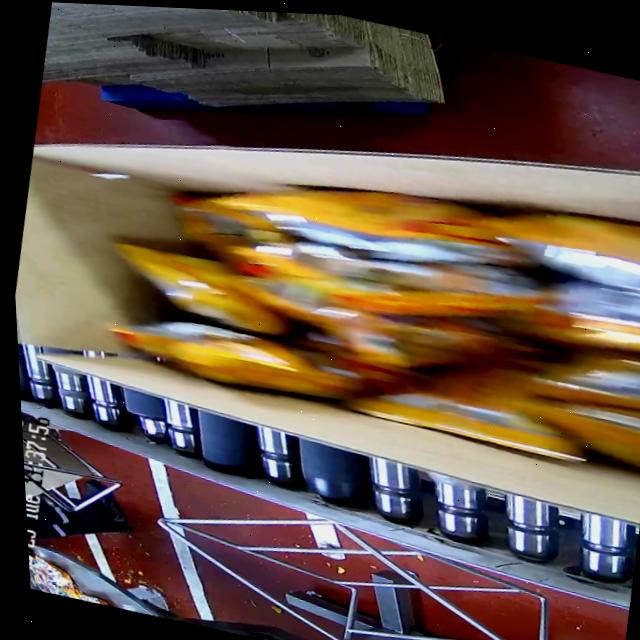FRENCH_CHEESE: (79, 99, 640, 484)
